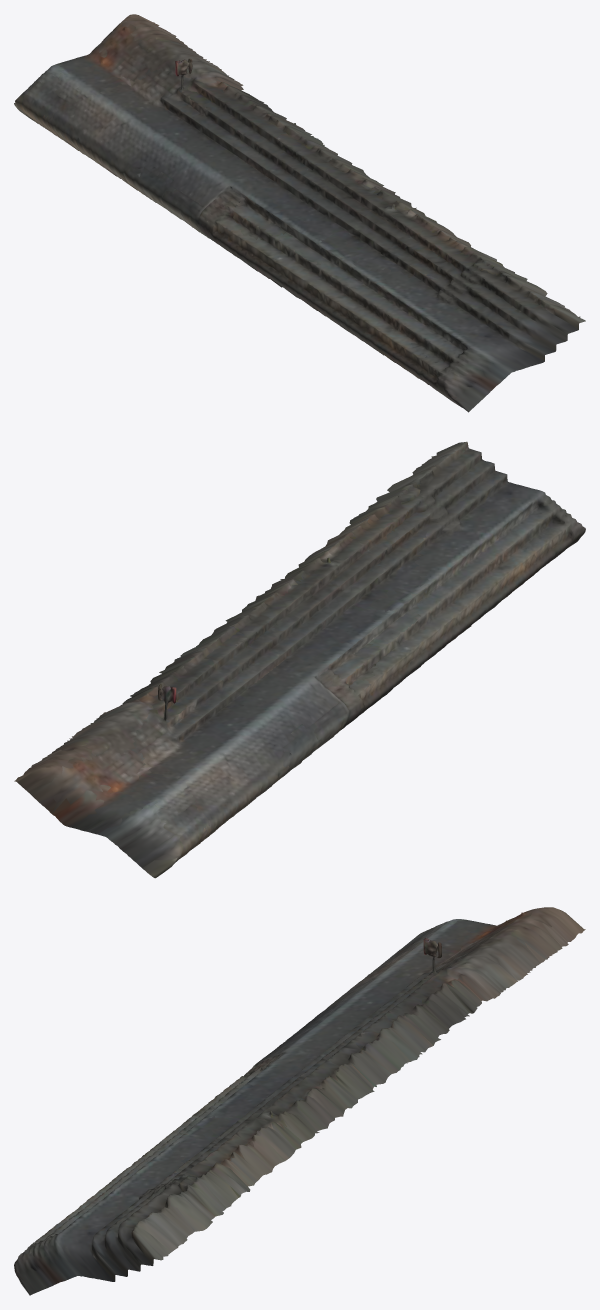
File: run4_p2_c7.glb
3 renders of one model, top to bottom at view 1: azimuth 30°, elevation 25°; view 2: azimuth 150°, elevation 25°; view 3: azimuth 330°, elevation 25°, orthographic. The views are drawn at different scales.
Visible parts, largest first — view 1: run4_p2_straight_c7; view 2: run4_p2_straight_c7; view 3: run4_p2_straight_c7.
Boxes of the visible parts, x1,y1,x2,y2 form: run4_p2_straight_c7: [14, 14, 585, 412]; run4_p2_straight_c7: [14, 441, 585, 878]; run4_p2_straight_c7: [14, 907, 585, 1295].
Size of the model in its own units: 9.26 by 5.44 by 40.32.
1 material, 1 textured.
